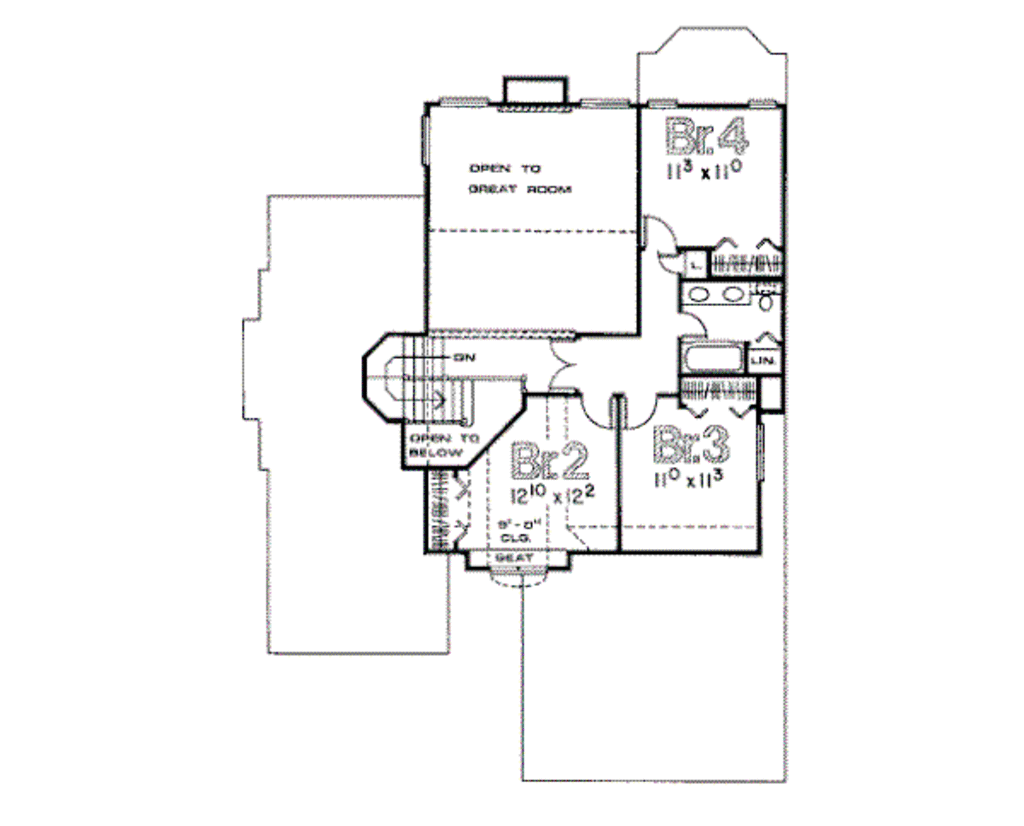door: (543, 337, 577, 393), (638, 214, 683, 252), (580, 391, 617, 435), (623, 395, 661, 431), (675, 308, 708, 338), (650, 251, 684, 277)
large_sink: (750, 279, 781, 313)
small_sink: (681, 279, 751, 310)
stairs: (357, 331, 485, 426)
tub: (681, 338, 747, 377)
window: (751, 421, 773, 485), (570, 95, 632, 115), (436, 91, 491, 113), (417, 115, 434, 172), (645, 94, 678, 112), (743, 98, 776, 113)
